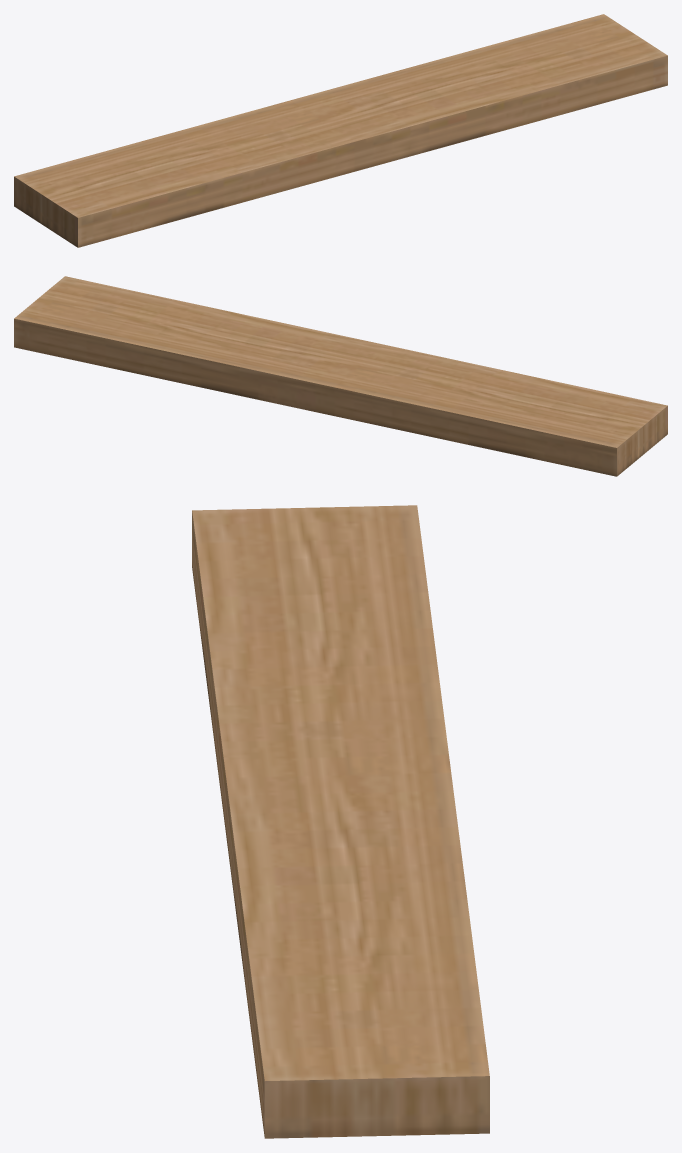
The model's file is Map_Furniture_103.fbx.
3 renders of one model, top to bottom at view 1: azimuth 30°, elevation 25°; view 2: azimuth 150°, elevation 25°; view 3: azimuth 270°, elevation 25°, orthographic. The views are drawn at different scales.
Visible parts, largest first — view 1: Map_Furniture_103; view 2: Map_Furniture_103; view 3: Map_Furniture_103.
Boxes of the visible parts, <box> form: Map_Furniture_103: <box>14,14,667,247</box>; Map_Furniture_103: <box>14,276,667,476</box>; Map_Furniture_103: <box>192,505,489,1138</box>.
Size of the model in its own units: 2.42 by 0.1126 by 0.5283.
